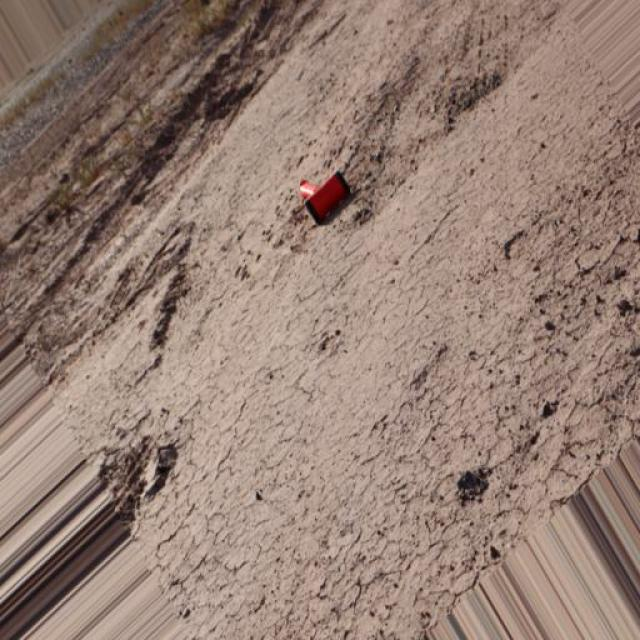mallet: (298, 168, 352, 224)
